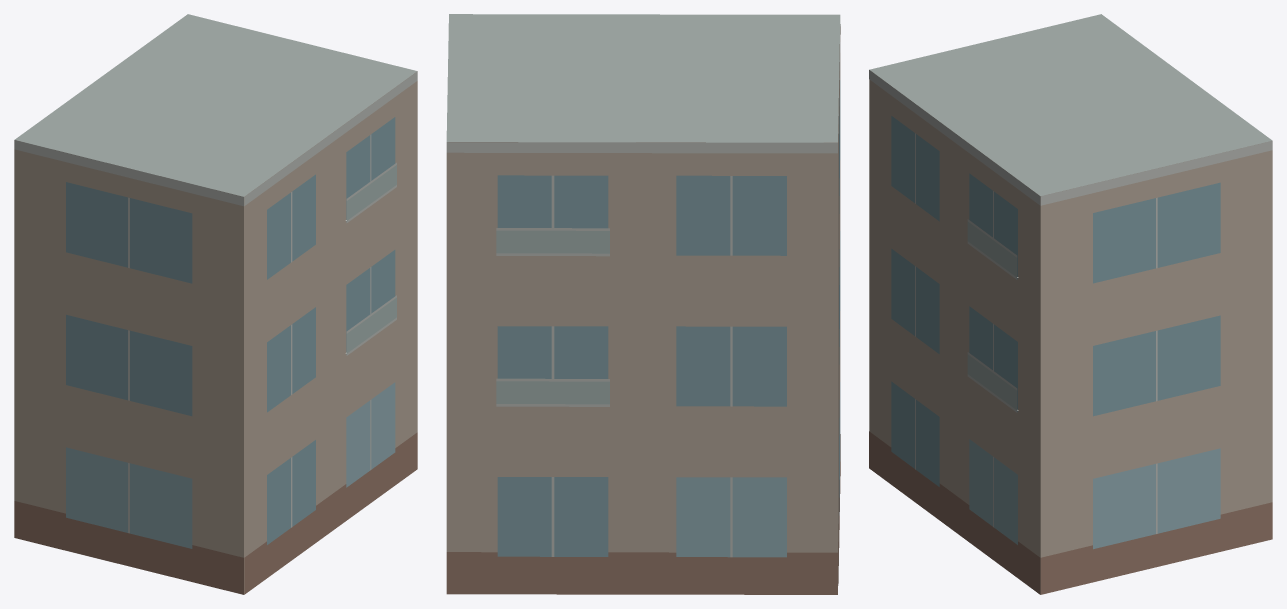
File: survey-upis-33024020.glb
3 renders of one model, left to right at view 1: azimuth 30°, elevation 25°; view 2: azimuth 150°, elevation 25°; view 3: azimuth 270°, elevation 25°, orthographic. The views are drawn at different scales.
Parts seen in each view (by area): view 1: survey-upis-33024020.tmp; view 2: survey-upis-33024020.tmp; view 3: survey-upis-33024020.tmp.
Part boxes in pixels (box(x1,y1,x2,y2)): survey-upis-33024020.tmp: box(14, 14, 417, 594); survey-upis-33024020.tmp: box(446, 14, 840, 594); survey-upis-33024020.tmp: box(869, 14, 1272, 594).
Bounding box in the file's own units: 10.01 × 10.2 × 9.37.
